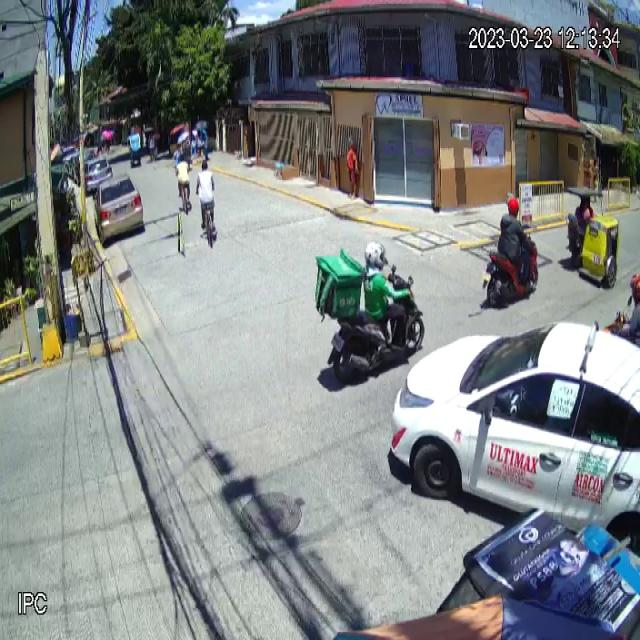Car: (388, 317, 640, 560)
Motorcycle: (326, 257, 426, 384), (482, 215, 539, 309)
Tricycle: (565, 185, 621, 288)
